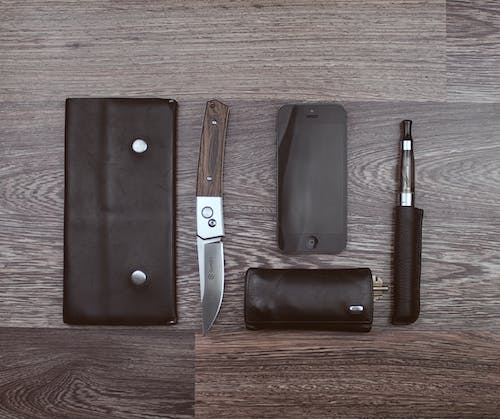cigarette: (388, 118, 424, 326)
knife: (194, 98, 231, 338)
